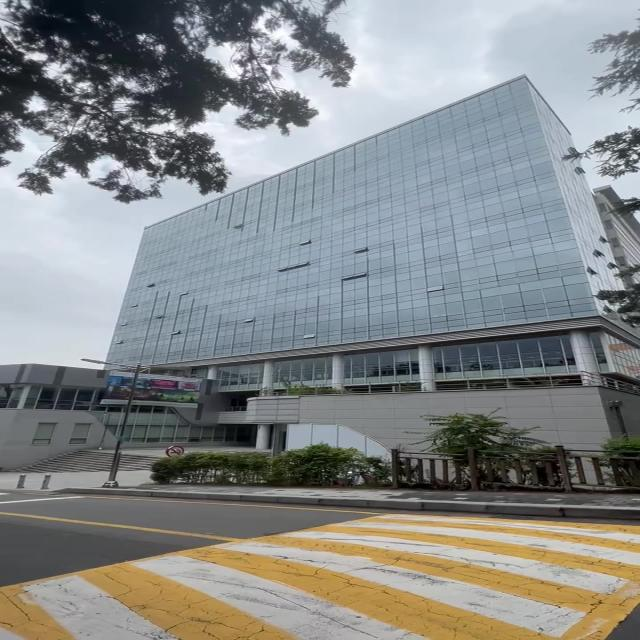building: (142, 139, 620, 379)
